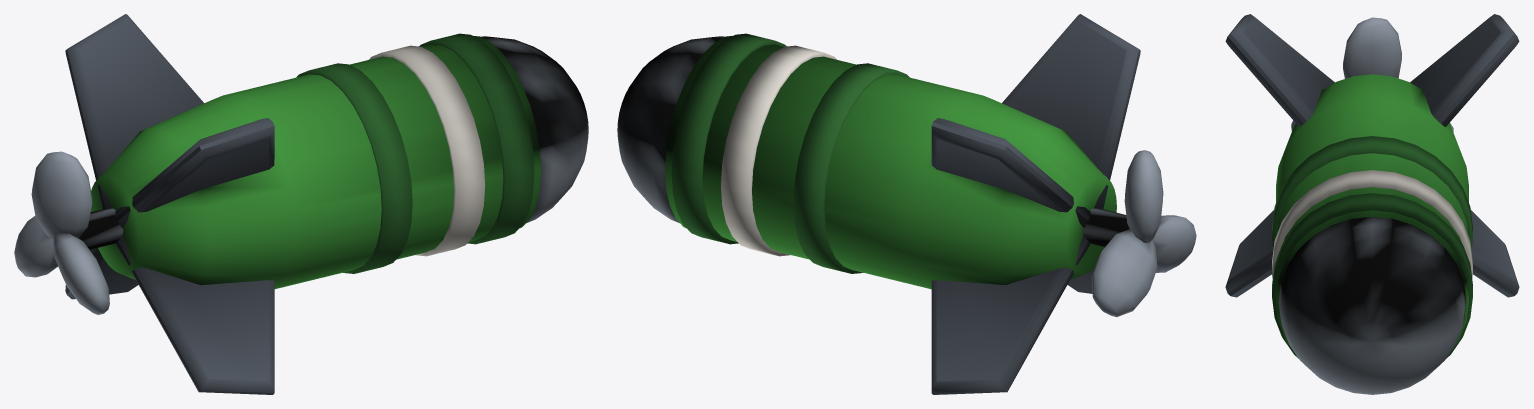
The model's file is proj_torpedo.glb.
The picture shows the model from 3 angles, left to right: view 1: azimuth 30°, elevation 25°; view 2: azimuth 150°, elevation 25°; view 3: azimuth 270°, elevation 25°; orthographic projection. The views are drawn at different scales.
Visible parts, largest first — view 1: torpedo_mesh; view 2: torpedo_mesh; view 3: torpedo_mesh.
Part boxes in pixels (bbox=[...]): torpedo_mesh: bbox=[14, 14, 588, 394]; torpedo_mesh: bbox=[617, 14, 1196, 394]; torpedo_mesh: bbox=[1225, 14, 1519, 394].
Size of the model in its own units: 0.9233 by 0.4568 by 0.4568.
